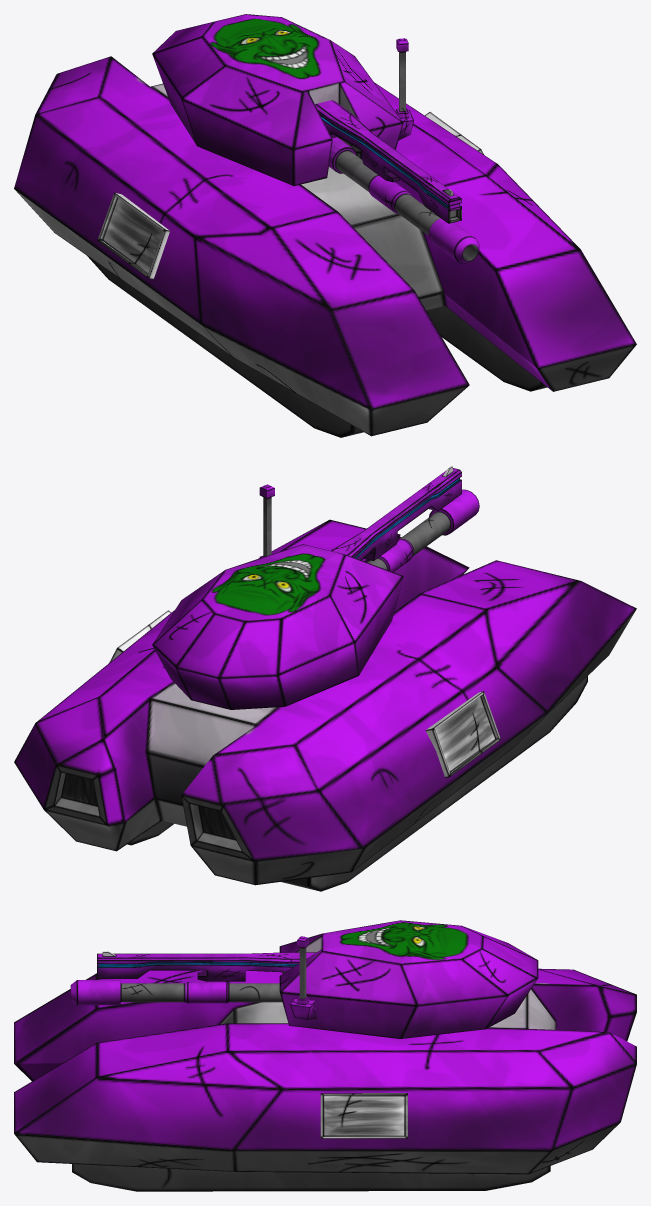
The model's file is Tank.fbx.
3 renders of one model, top to bottom at view 1: azimuth 30°, elevation 25°; view 2: azimuth 150°, elevation 25°; view 3: azimuth 270°, elevation 25°, orthographic. The views are drawn at different scales.
Visible parts, largest first — view 1: TankBase, TankTop; view 2: TankBase, TankTop; view 3: TankBase, TankTop.
Boxes of the visible parts, x1=… form: TankBase: x1=14, y1=56, x2=636, y2=437; TankTop: x1=152, y1=14, x2=479, y2=263; TankBase: x1=14, y1=519, x2=636, y2=891; TankTop: x1=152, y1=466, x2=479, y2=709; TankBase: x1=14, y1=968, x2=636, y2=1191; TankTop: x1=70, y1=920, x2=538, y2=1038.
Size of the model in its own units: 26.05 by 19.21 by 46.54.
